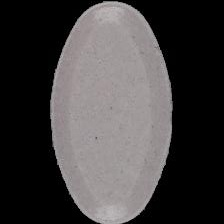52125-910: (0, 0, 224, 224)
